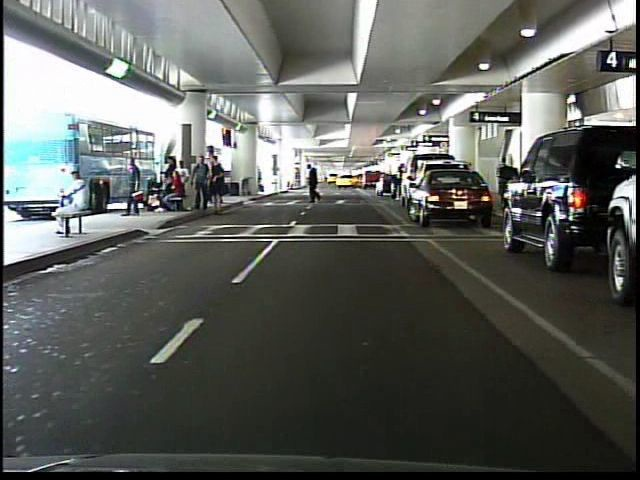person: (47, 164, 93, 240), (119, 151, 147, 221), (303, 162, 327, 208)
